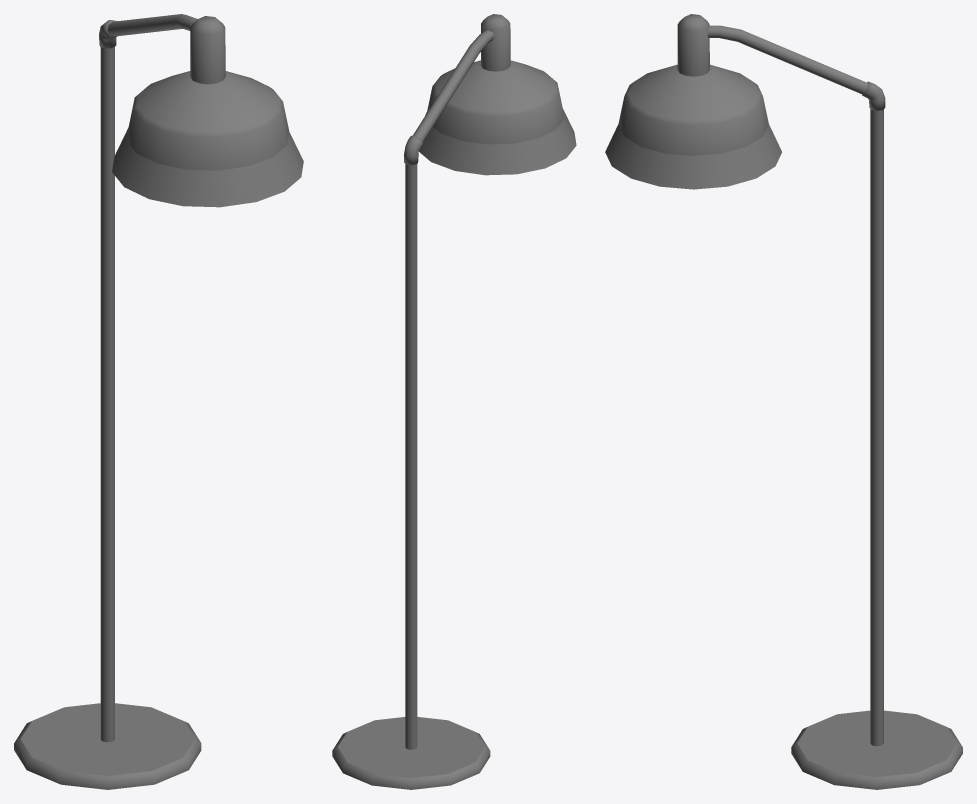
Rendered from floor_lamp.gltf.
3 renders of one model, left to right at view 1: azimuth 30°, elevation 25°; view 2: azimuth 150°, elevation 25°; view 3: azimuth 270°, elevation 25°, orthographic. The views are drawn at different scales.
Visible parts, largest first — view 1: floor_lamp; view 2: floor_lamp; view 3: floor_lamp.
Part boxes in pixels (x1=…): floor_lamp: x1=14, y1=14, x2=303, y2=789; floor_lamp: x1=332, y1=14, x2=576, y2=789; floor_lamp: x1=605, y1=14, x2=962, y2=789.
Bounding box in the file's own units: 0.5721 × 2.62 × 1.16.
Materials: 3 (3 with a texture image).
